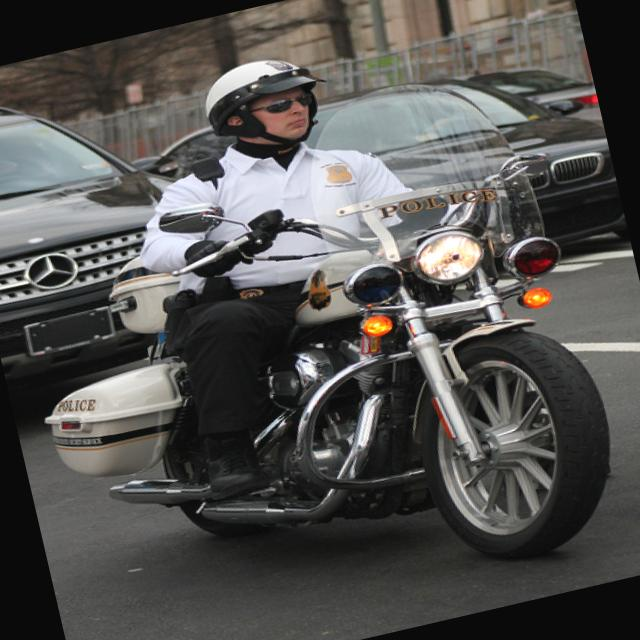Vehicle: (66, 111, 640, 640), (128, 39, 630, 344), (0, 63, 216, 394), (459, 48, 603, 150)
